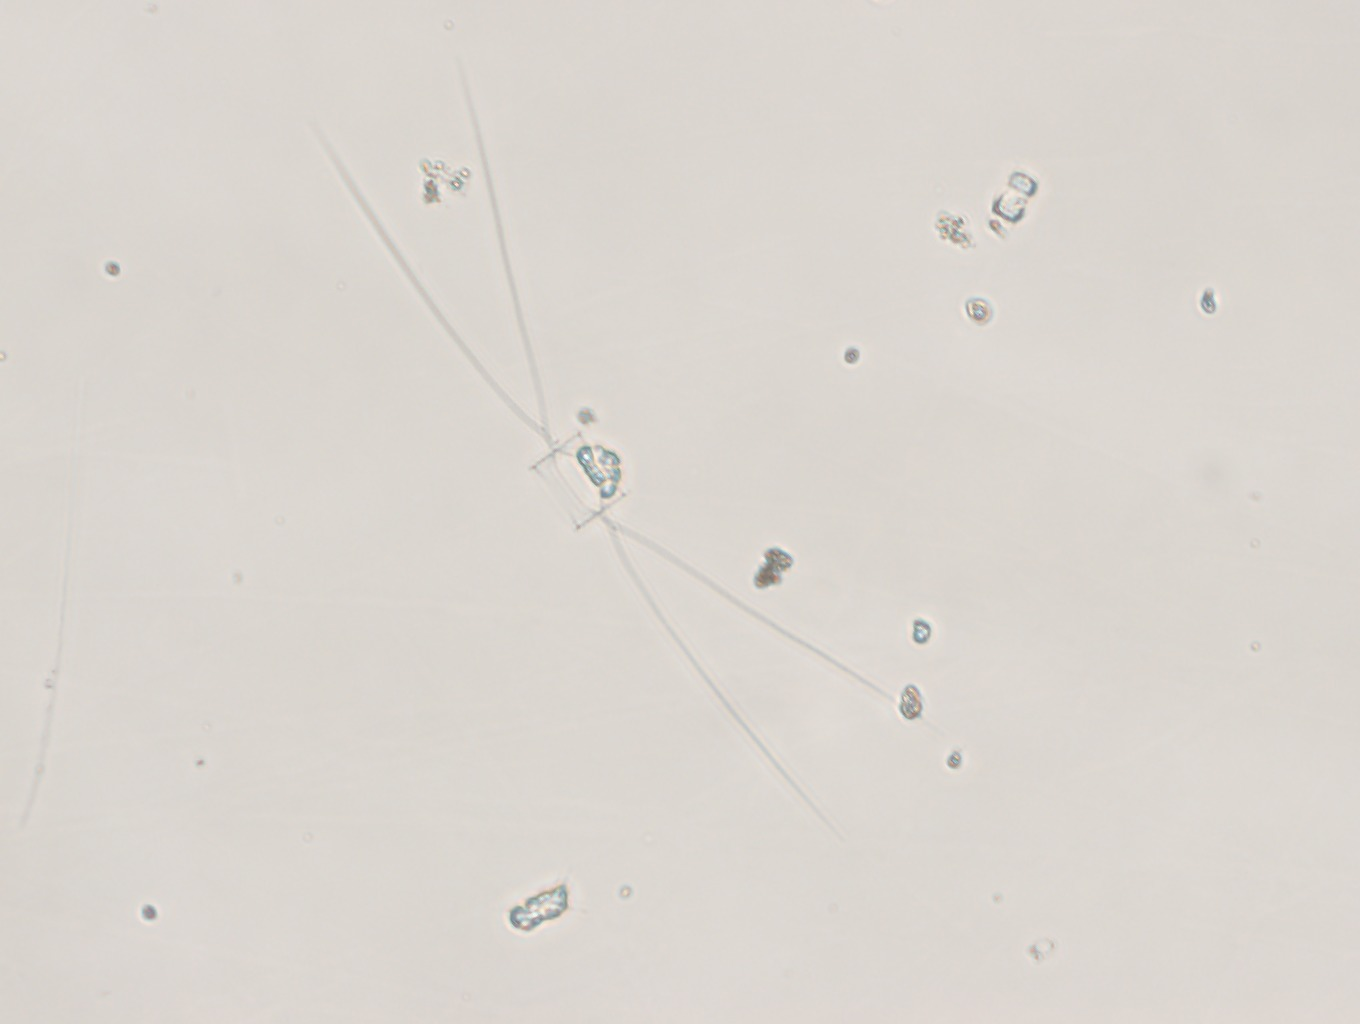chaetoceros: (298, 74, 915, 845)
